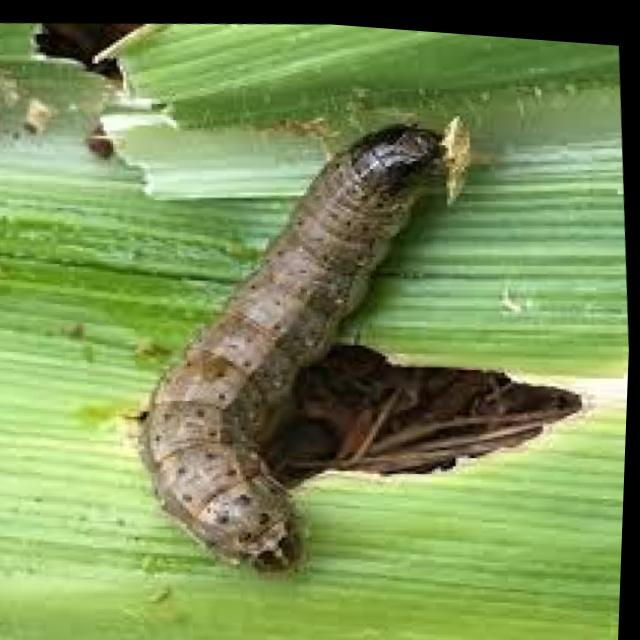Fall-Armyworm: (98, 89, 493, 607)
